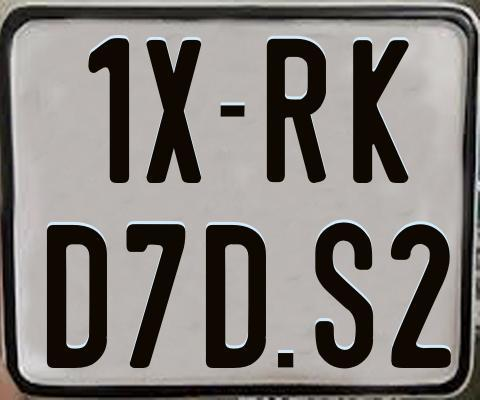1: (86, 37, 128, 184)
2: (388, 224, 452, 369)
7: (126, 223, 185, 368)
D: (46, 223, 111, 367), (205, 225, 265, 373)
K: (353, 39, 415, 183)
R: (264, 36, 323, 185)
S: (314, 219, 373, 367)
X: (145, 37, 205, 185)
